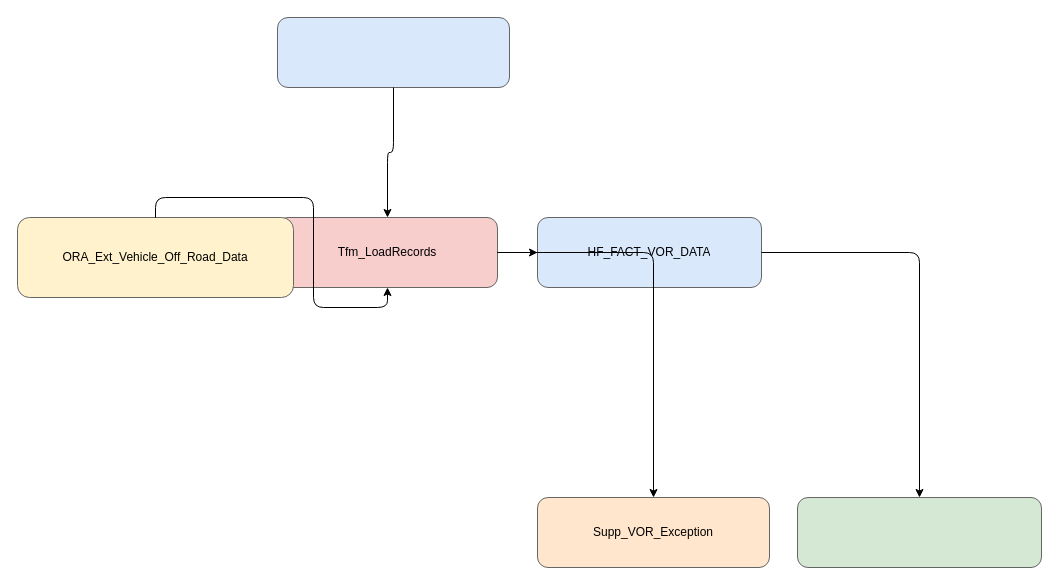
The diagram is 1059 pixels wide and 585 high, and some of its shapes have lost their labels. Here are the shapes that lost their labels. From the top down, the centre of each, then its label:
At point 393,52: "HF_SMR_VEHICLE_DIM".
At point 919,532: "Ora_StgVehicleOffRoad".
